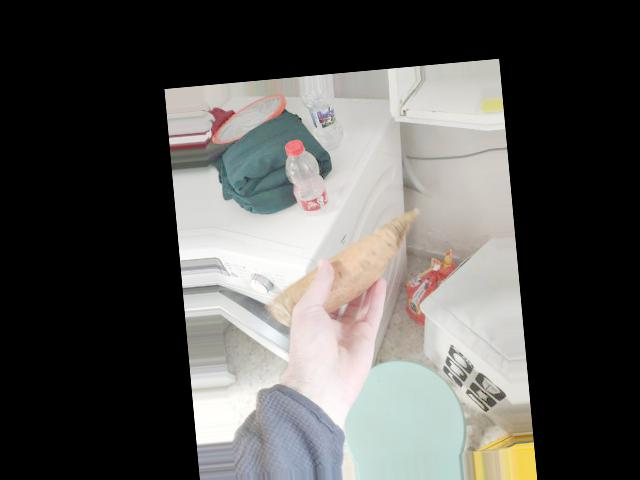sweet_potato: (299, 223, 391, 314)
